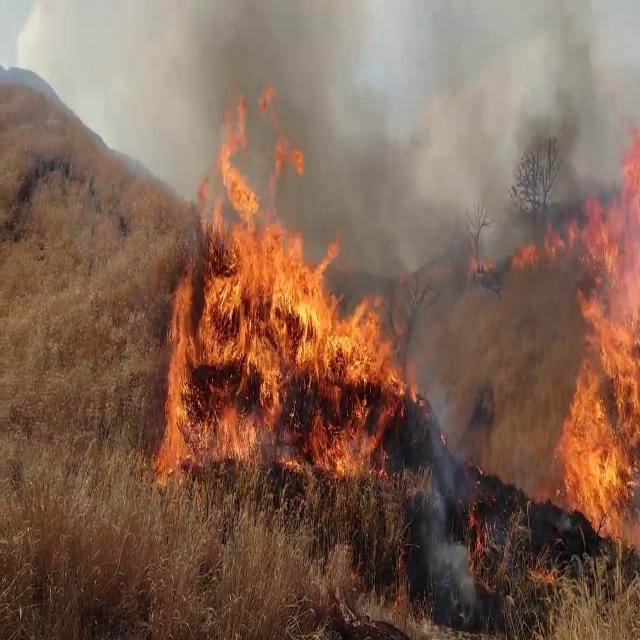Fire: (158, 86, 412, 487), (556, 122, 640, 544)
Smoke: (408, 0, 614, 432), (178, 0, 391, 165)
